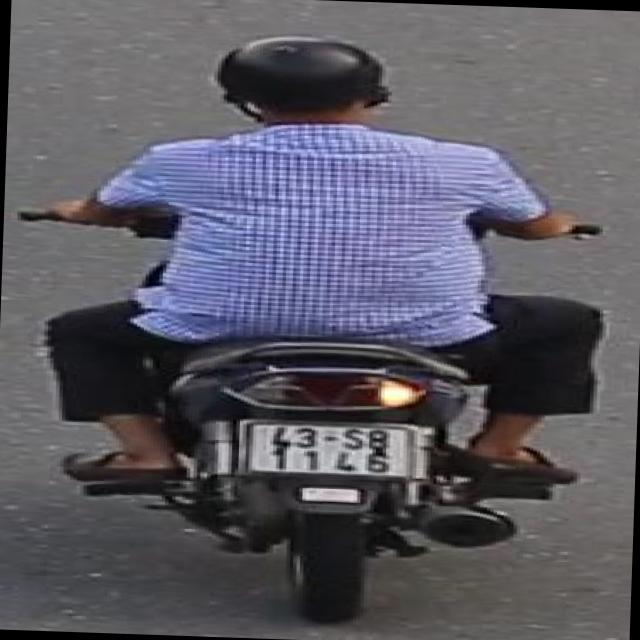LP: (234, 412, 431, 482)
helmet: (201, 28, 400, 140)
